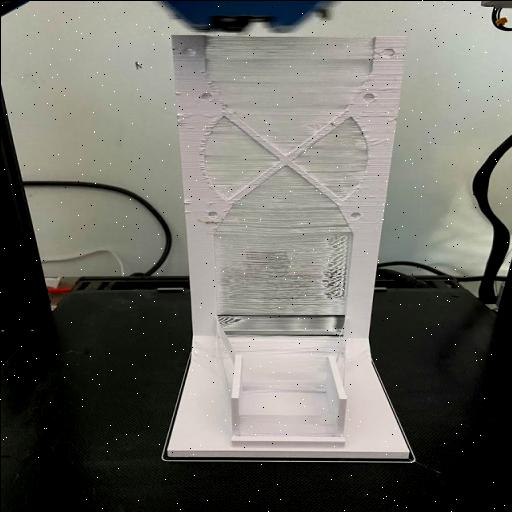stringing: (202, 38, 378, 314)
